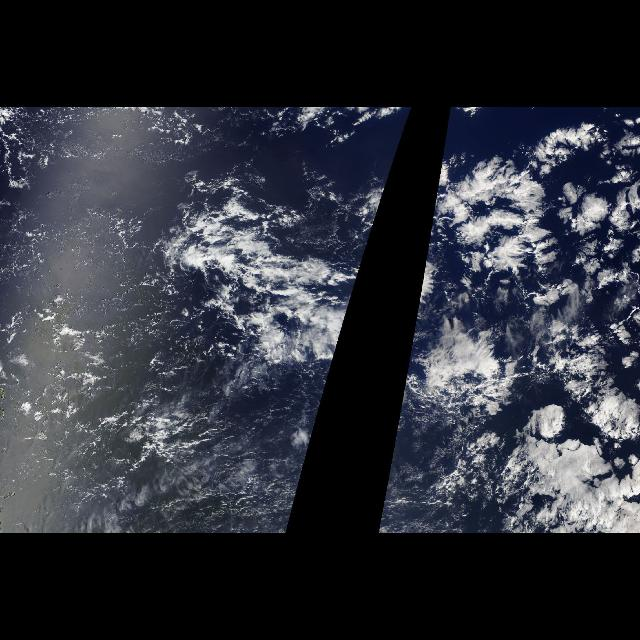Fish: (376, 161, 640, 533), (162, 161, 394, 533)
Flower: (392, 135, 640, 533), (390, 135, 402, 175)
Gravel: (2, 112, 198, 532)
